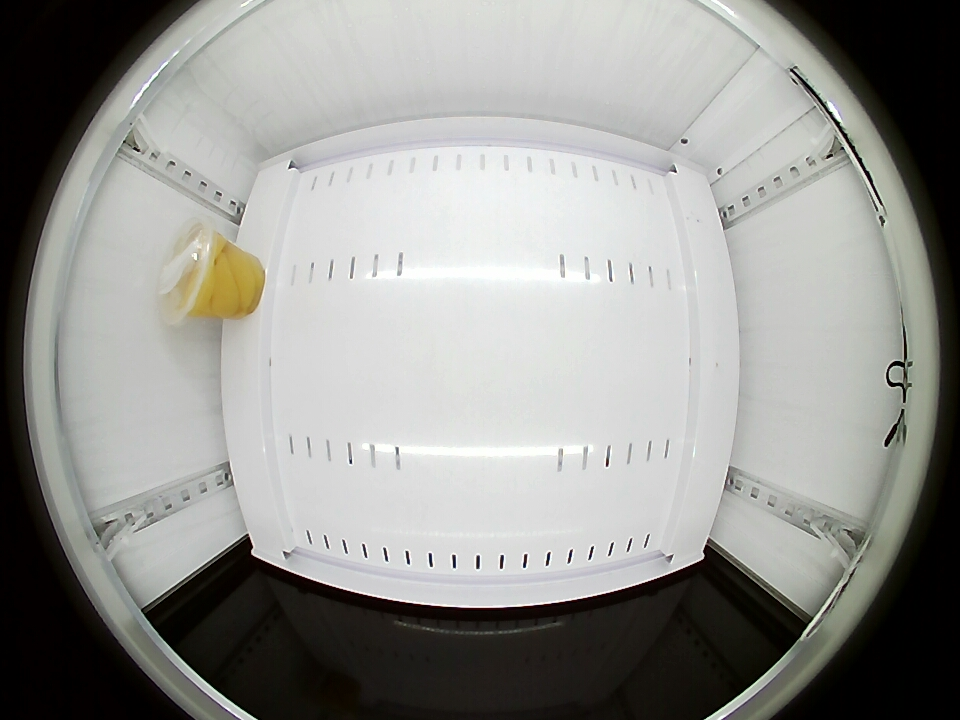xianguolao: (158, 221, 226, 323)
